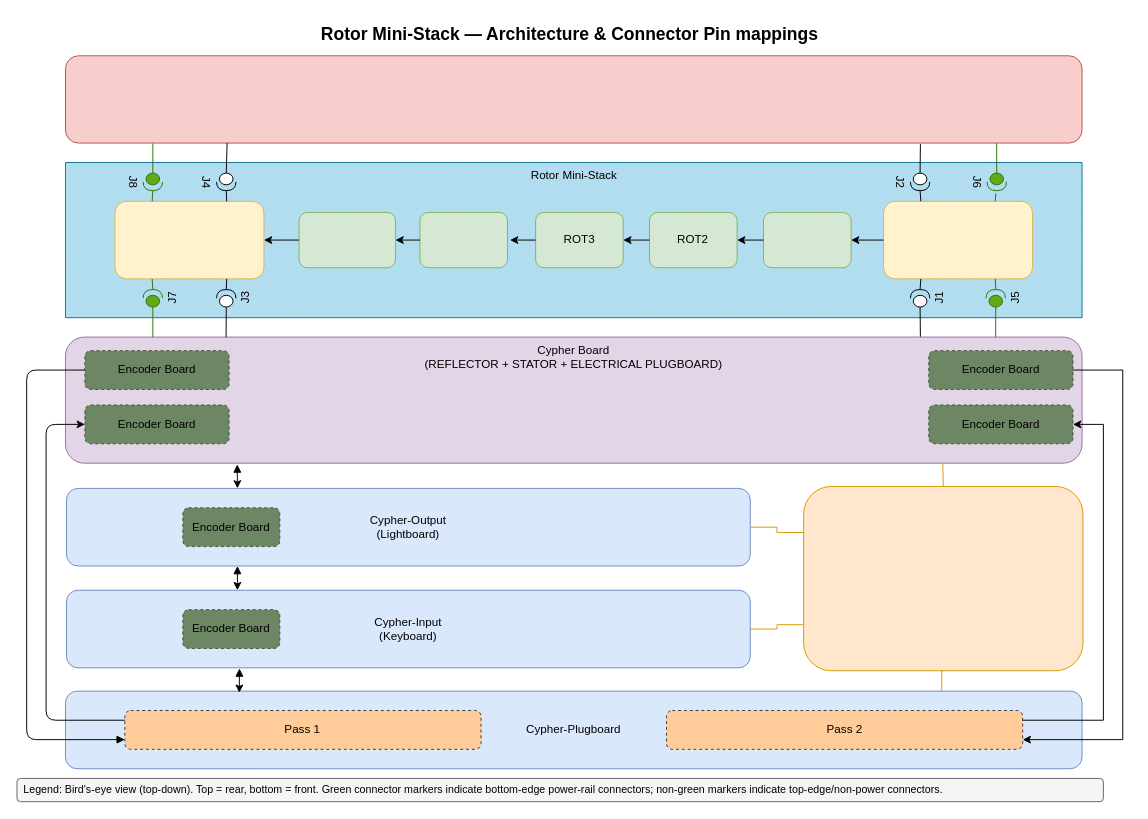
The diagram is 1148 pixels wide and 819 high, and some of its shapes have lost their labels. Each missing label, with the centre of its shape:
"ROT1" belongs at point (807, 239).
"ROT4" belongs at point (463, 239).
"ROT5" belongs at point (346, 239).
"Stack-Blanking (Terminator)" belongs at point (573, 99).
"Stack-Input" belongs at point (958, 239).
"Stack-Output" belongs at point (189, 239).
"User Settings Module (USM)" belongs at point (943, 578).
